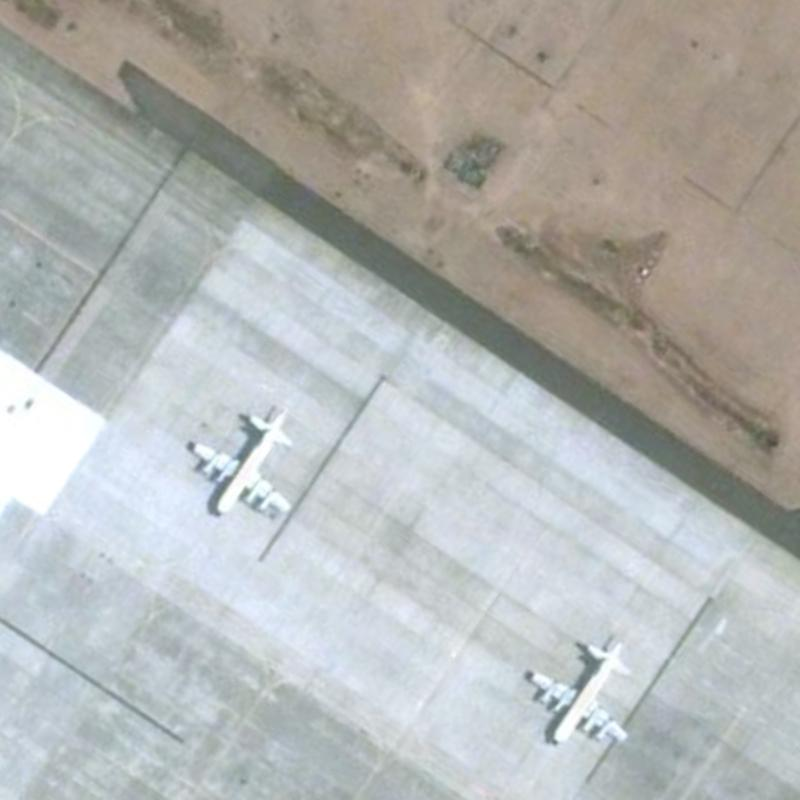A9: (176, 397, 297, 527), (518, 627, 635, 758)
